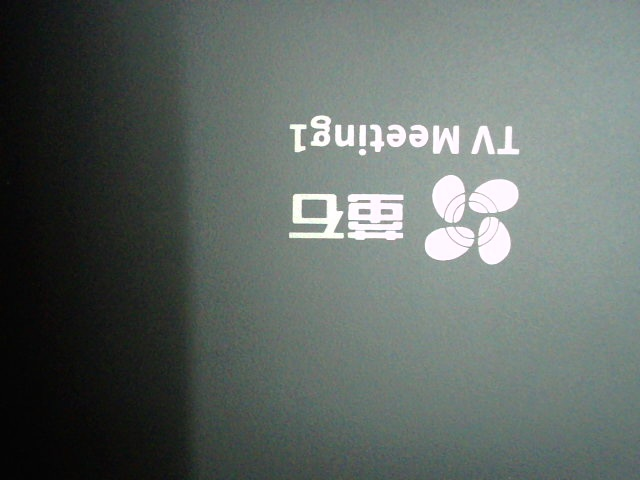BA_Yingshi: (284, 116, 520, 268)
